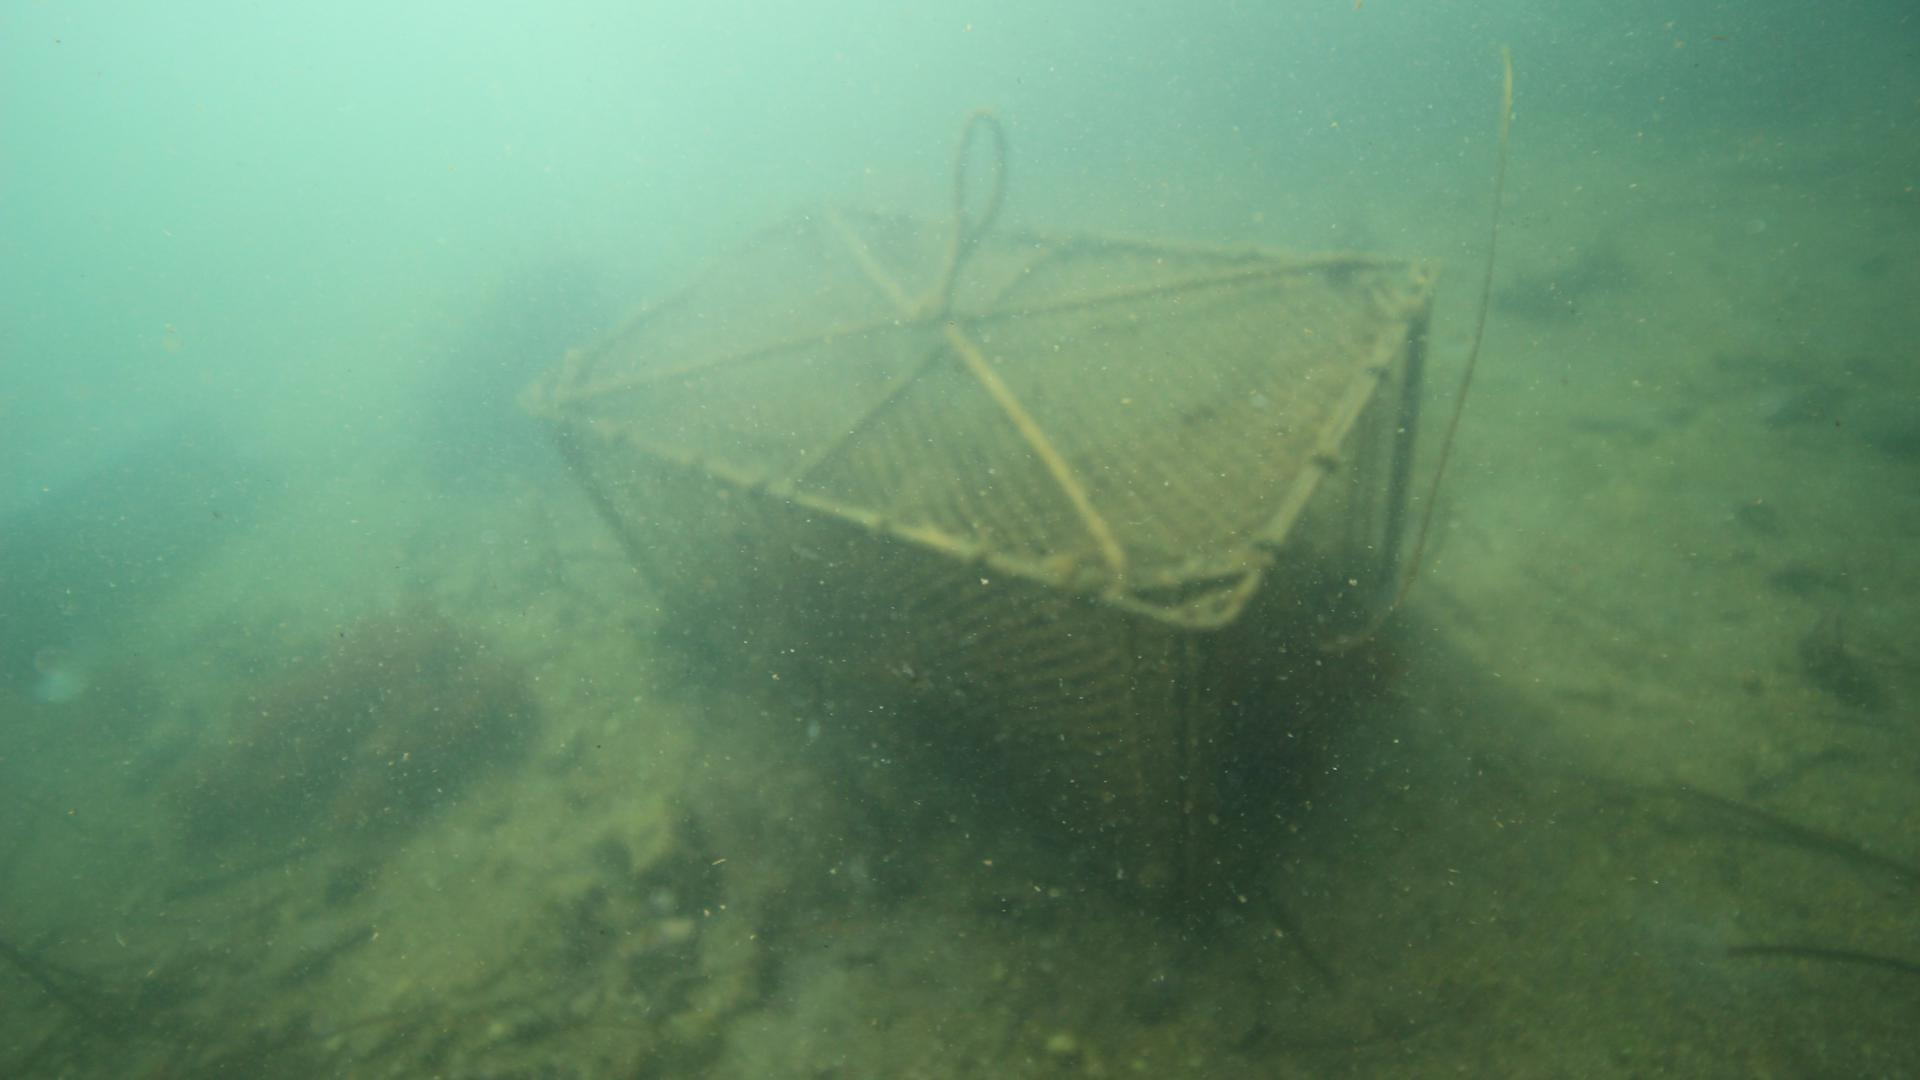rectangular fish trap: (506, 189, 1451, 914)
